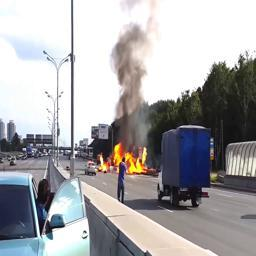fire: (99, 144, 156, 174)
